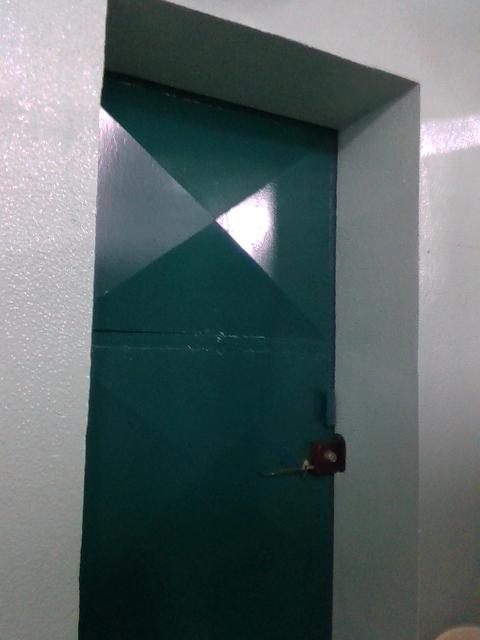door: (81, 77, 347, 640)
